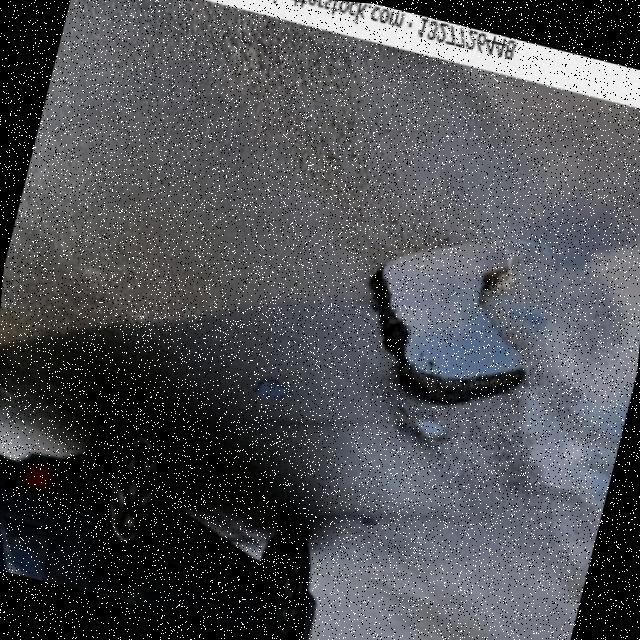Pothole: (369, 238, 526, 401)
